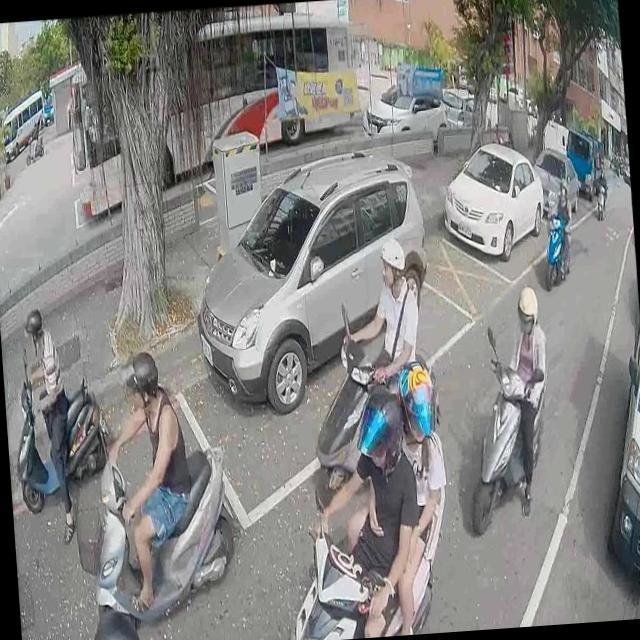person: (337, 347, 457, 638), (295, 386, 425, 640), (96, 342, 200, 620), (495, 282, 558, 514), (18, 298, 78, 541), (334, 238, 422, 392), (541, 174, 573, 282), (89, 600, 144, 640), (27, 119, 40, 161), (598, 164, 606, 190)
